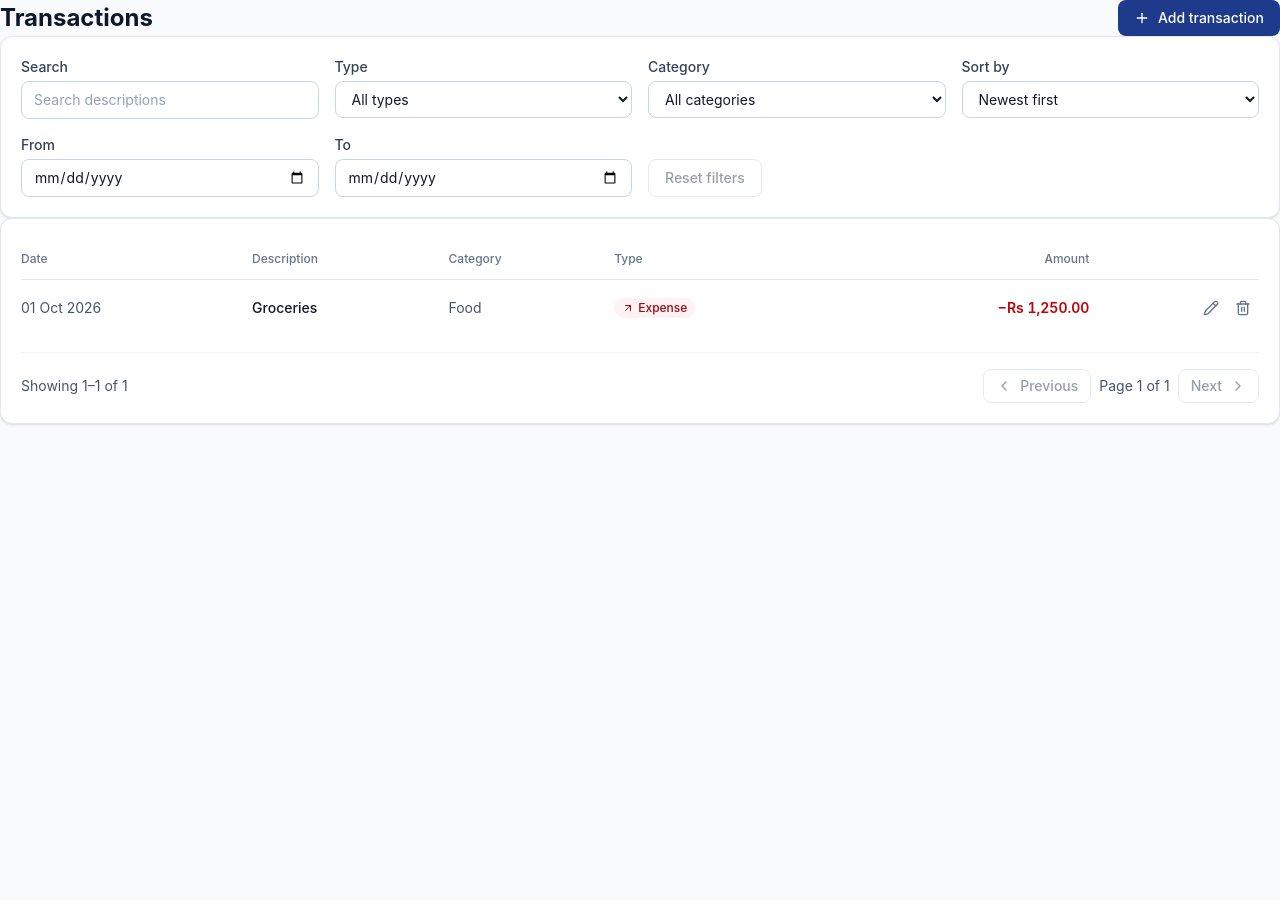
it: editing and deleting › edits an existing transaction and keeps its id
Click the button named "Edit Groceries".
click(1211, 308)  # box [1195, 292, 1227, 324]
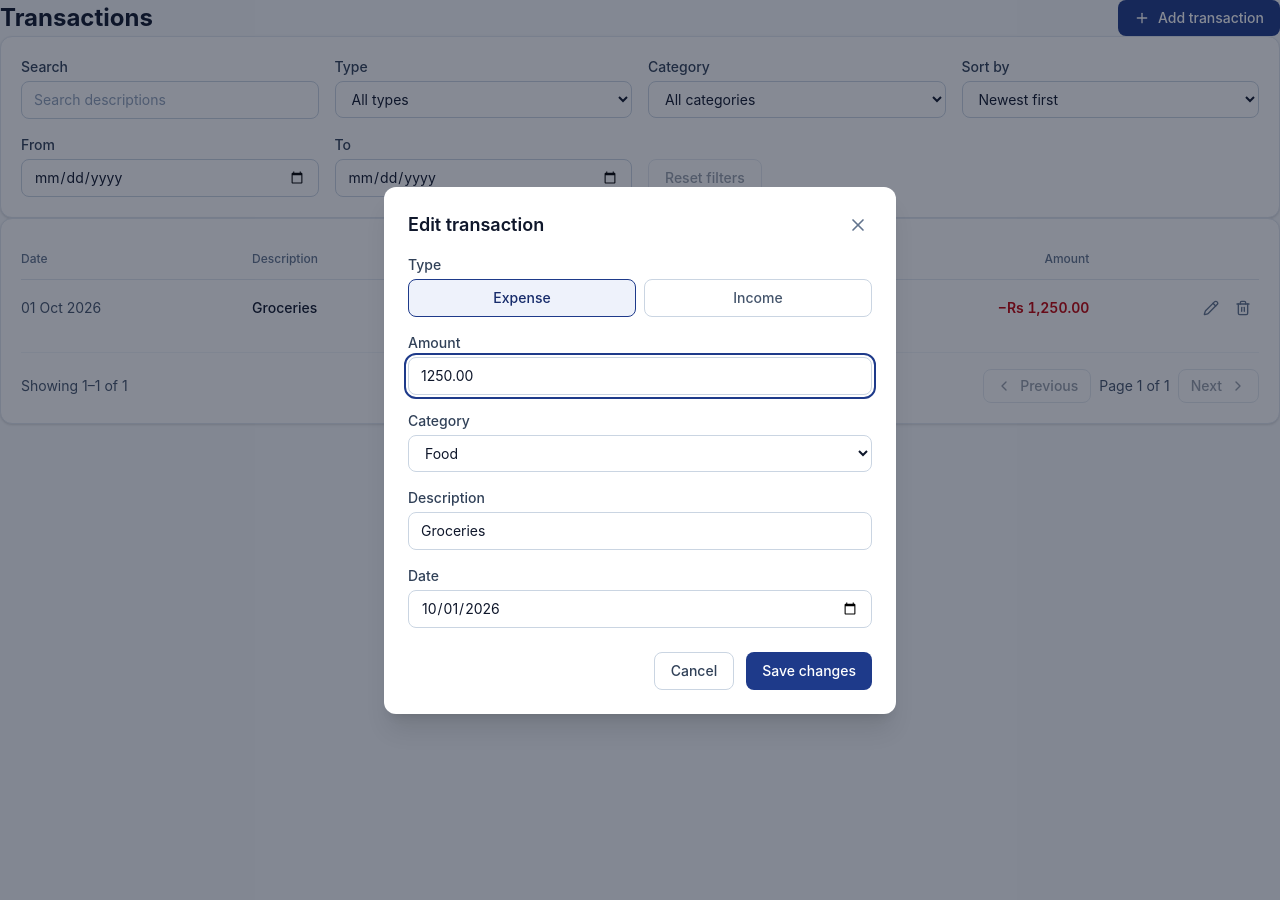
Replace the text in the field labelled "Description" with "Weekly groceries" at coordinates (640, 530), box [408, 512, 872, 550]
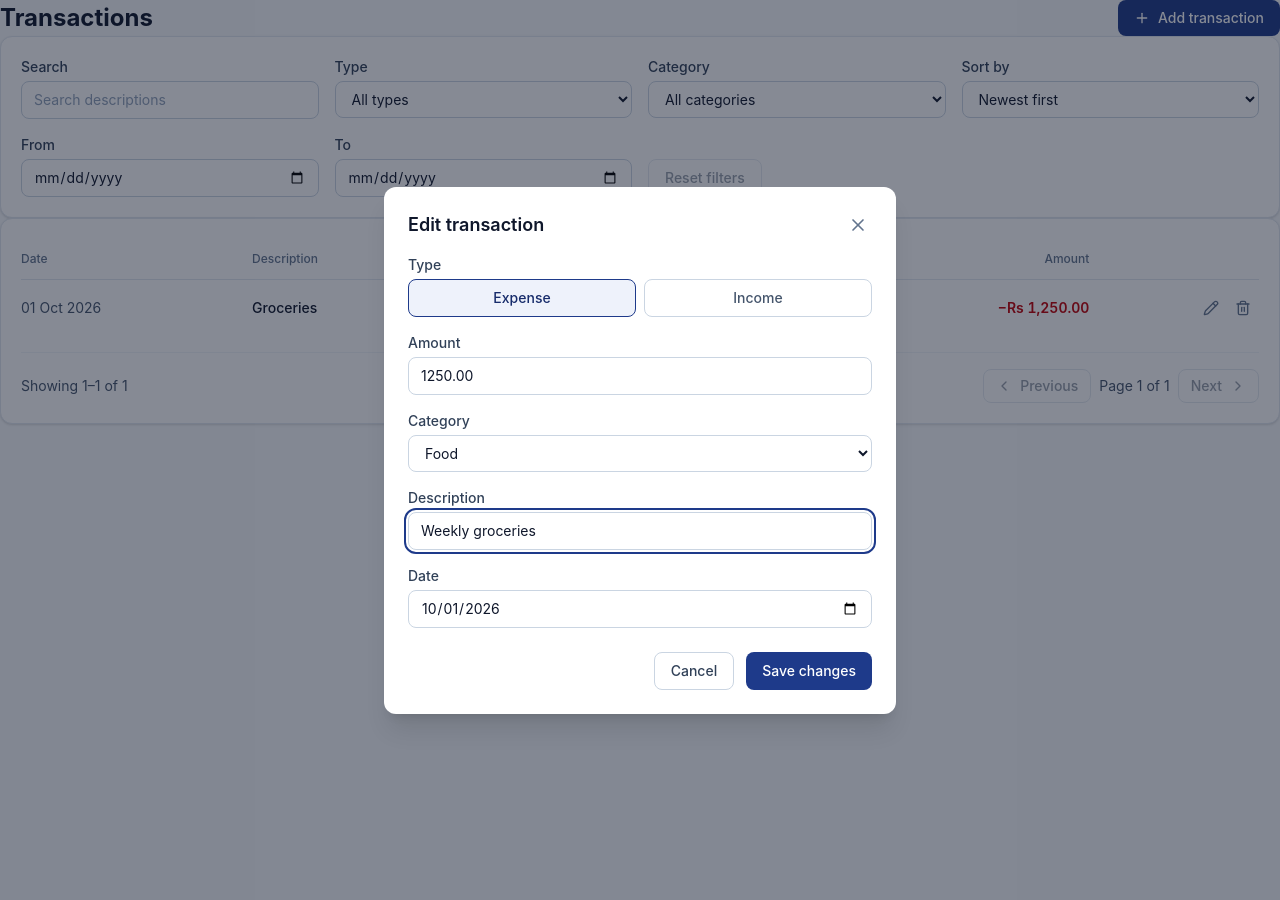
Replace the text in the field labelled "Amount" with "1500" at coordinates (640, 376), box [408, 356, 872, 394]
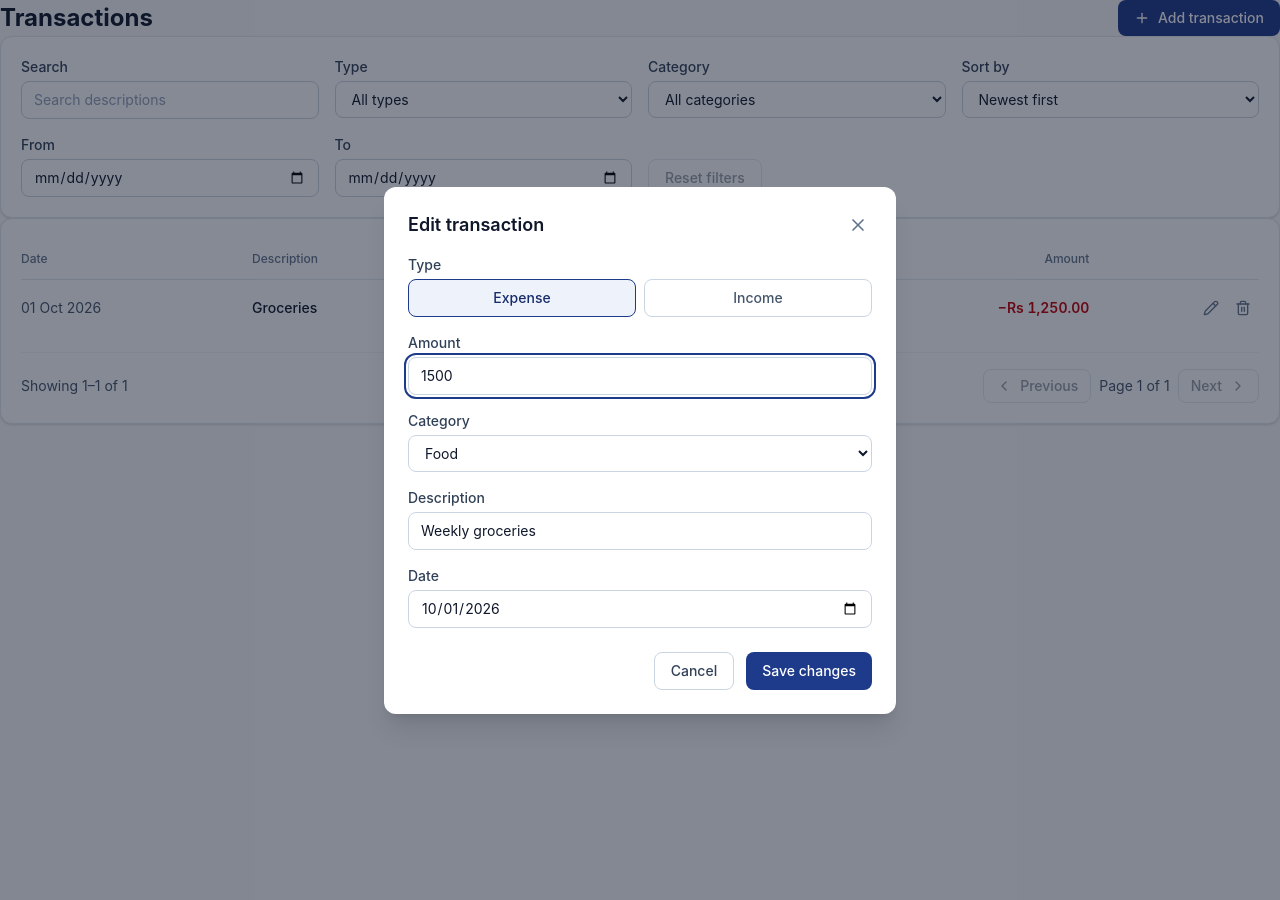
Click the button "Save changes".
click(809, 670)  # box [746, 652, 872, 690]
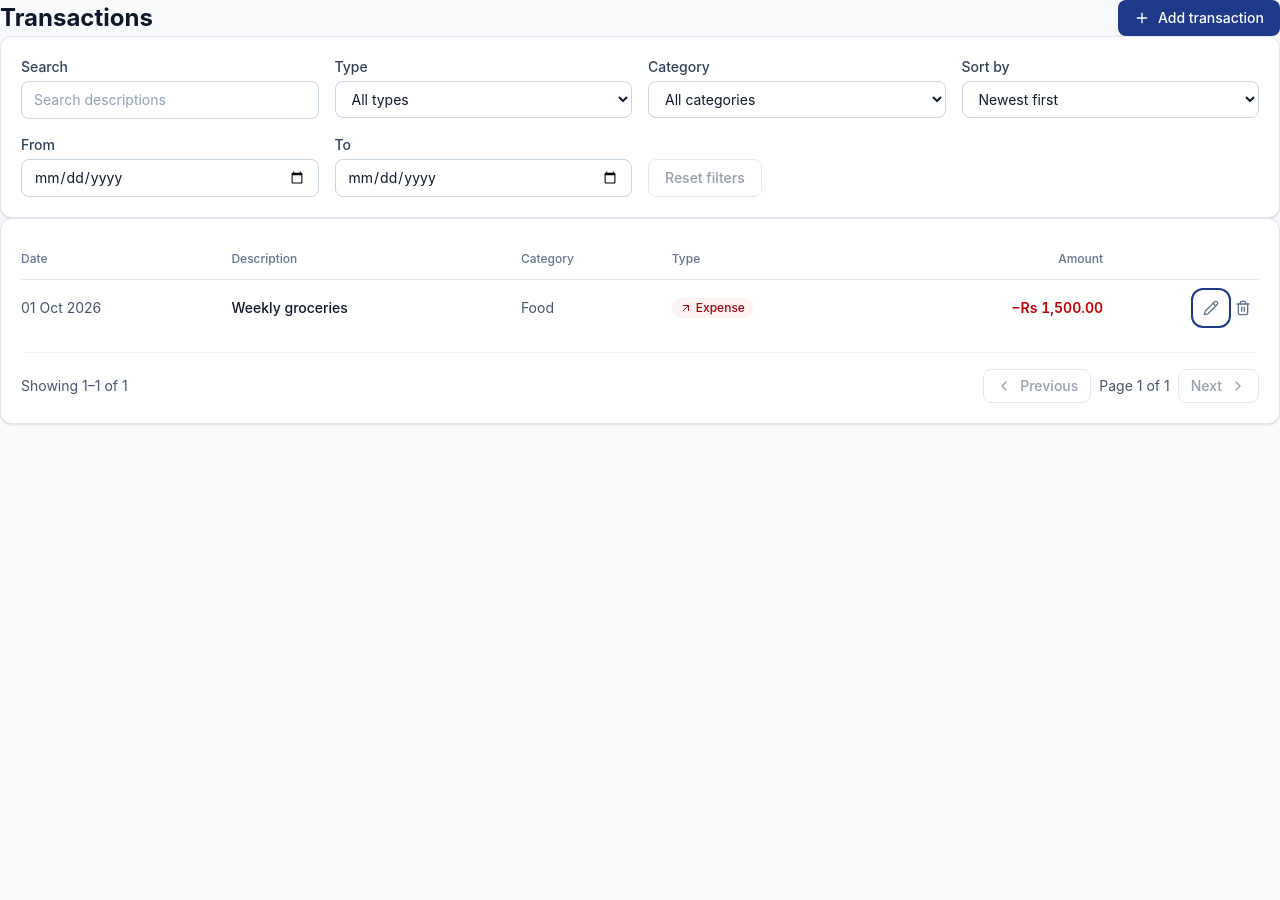
Expected: the text "Weekly groceries" is shown, [231, 280, 521, 336]
